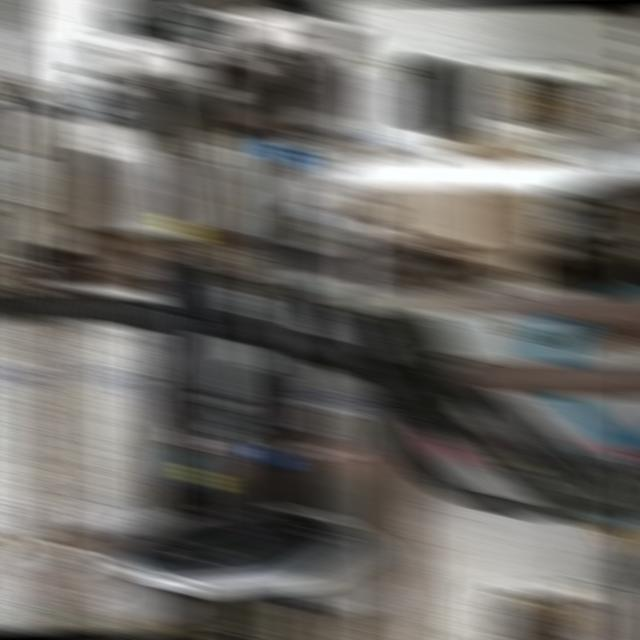blue: (261, 141, 300, 165), (249, 445, 288, 466)
yellow: (162, 217, 197, 238), (185, 466, 219, 487)
